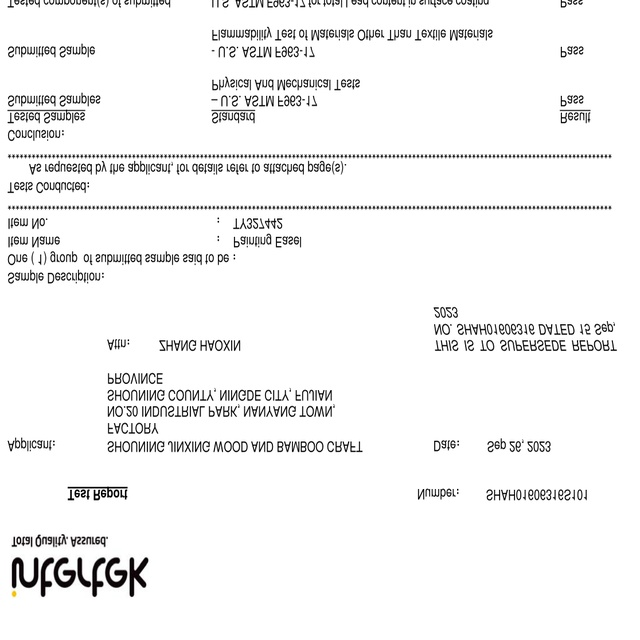intertek: (8, 550, 156, 601)
